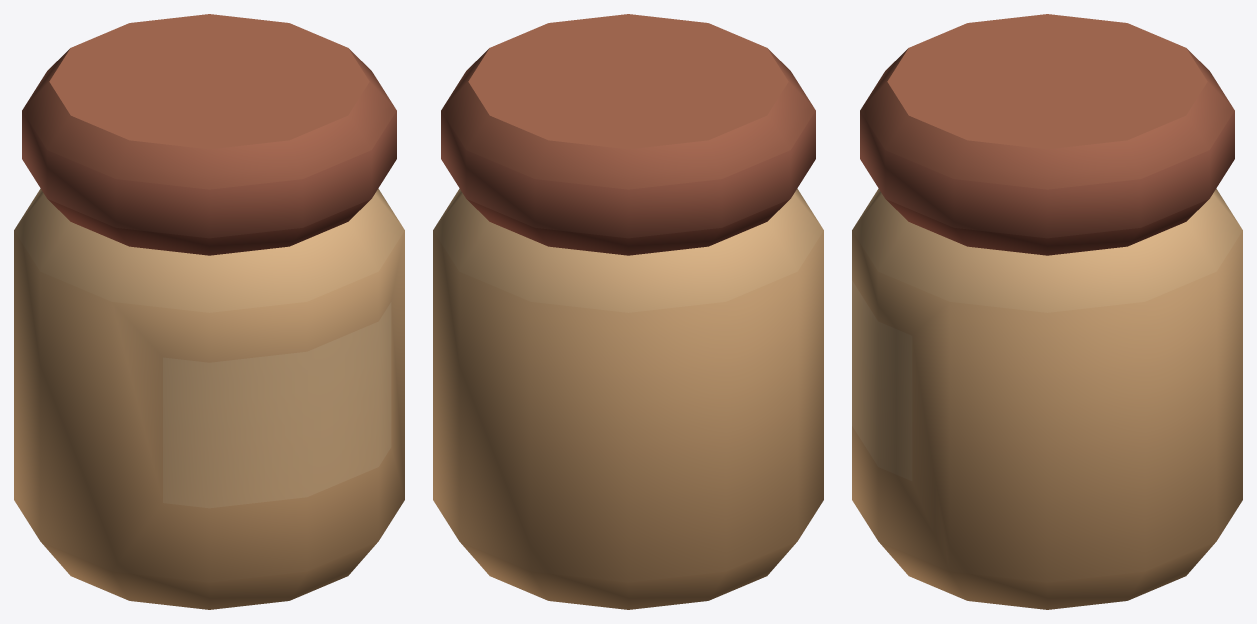
The model's file is kay-jar_c_medium.glb.
3 renders of one model, left to right at view 1: azimuth 30°, elevation 25°; view 2: azimuth 150°, elevation 25°; view 3: azimuth 270°, elevation 25°, orthographic.
Parts seen in each view (by area): view 1: jar_C_medium; view 2: jar_C_medium; view 3: jar_C_medium.
Part boxes in pixels (x1,y1,x2,y2): jar_C_medium: (14, 14, 404, 609); jar_C_medium: (433, 14, 823, 609); jar_C_medium: (852, 14, 1242, 609).
Size of the model in its own units: 0.1692 by 0.22 by 0.1692.
1 material, 1 textured.
